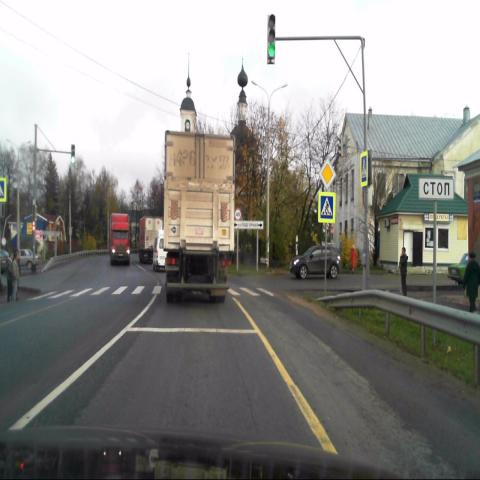6_16: (419, 178, 454, 199)
